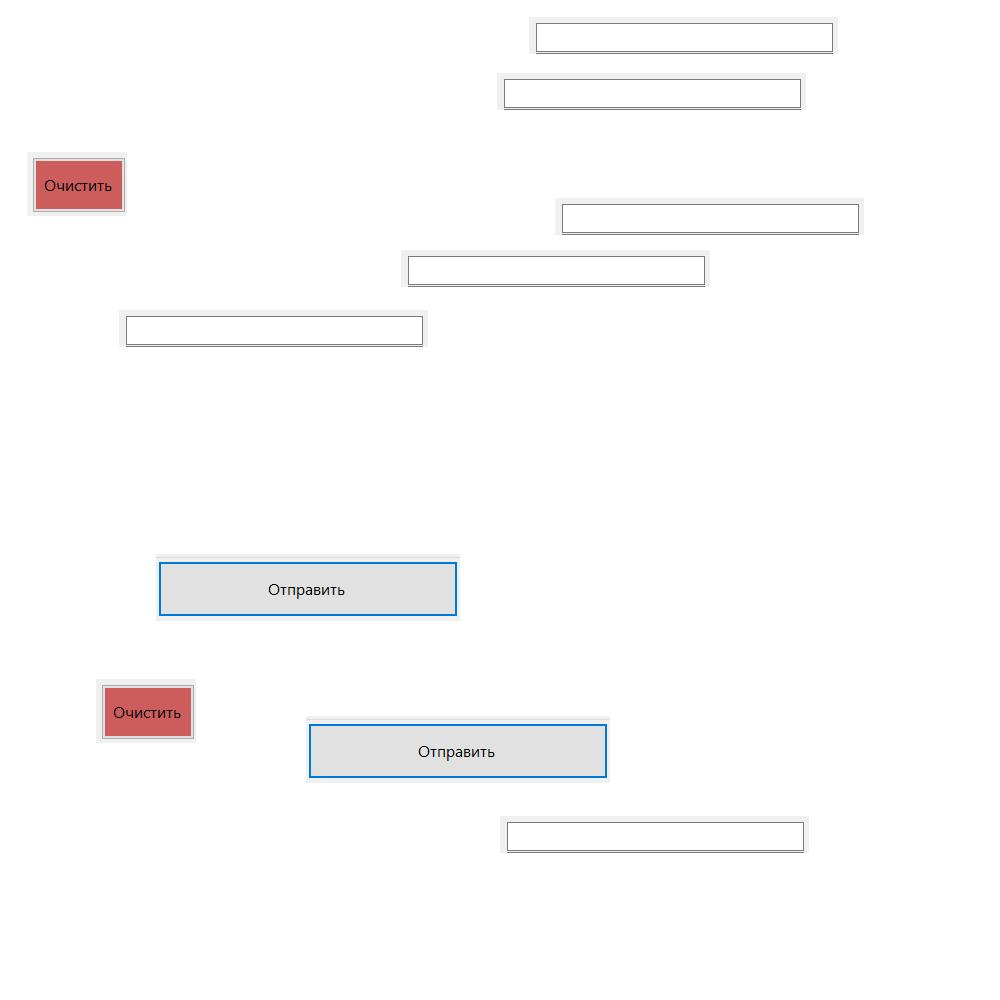Button: (306, 716, 610, 783), (156, 554, 460, 621), (27, 152, 127, 216), (96, 679, 196, 743)
EditText-: (497, 73, 806, 110), (401, 250, 710, 287), (529, 17, 838, 54), (500, 816, 809, 853), (119, 310, 428, 347), (555, 198, 864, 235)
